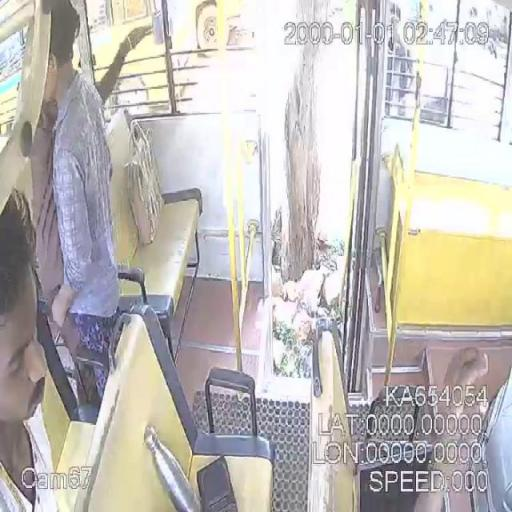persona: (25, 1, 123, 408), (44, 1, 122, 407), (0, 186, 60, 511)
